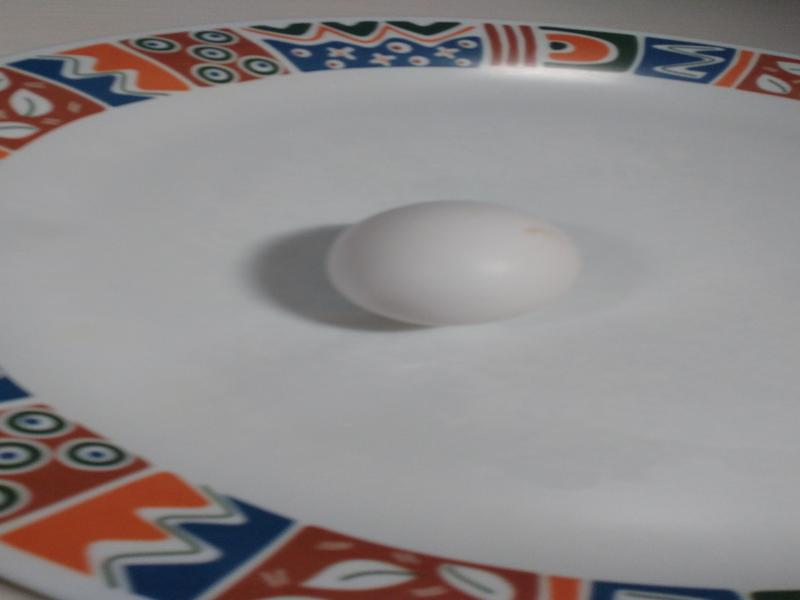egg: (334, 200, 583, 326)
